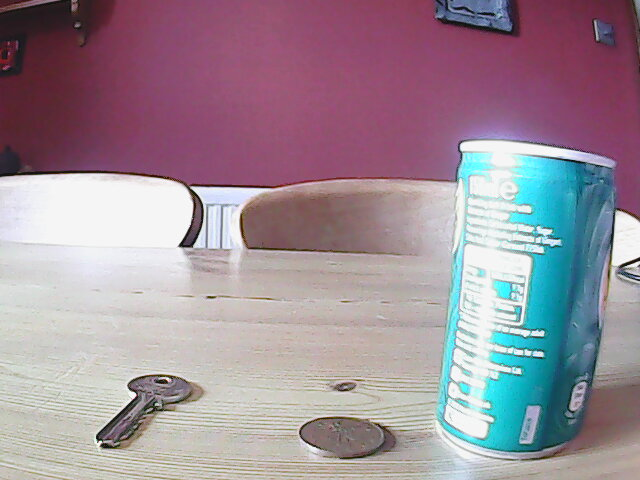Can: (429, 139, 621, 467)
Coin: (296, 413, 389, 463)
Key: (89, 371, 193, 456)
